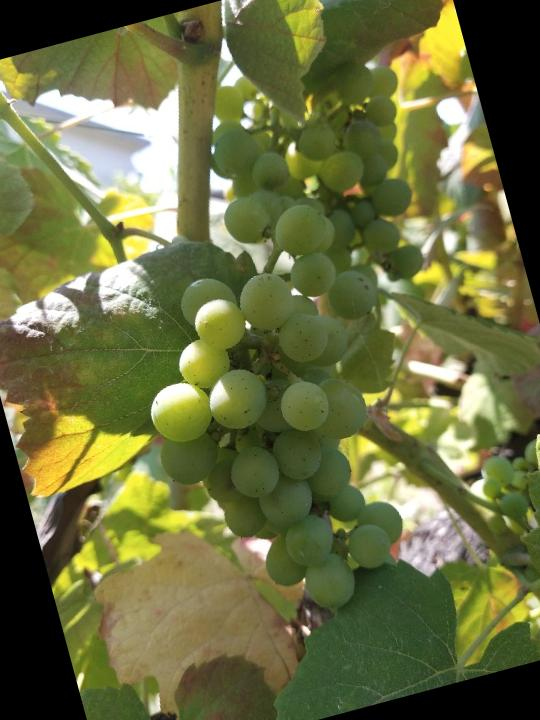grape: (105, 190, 456, 647)
